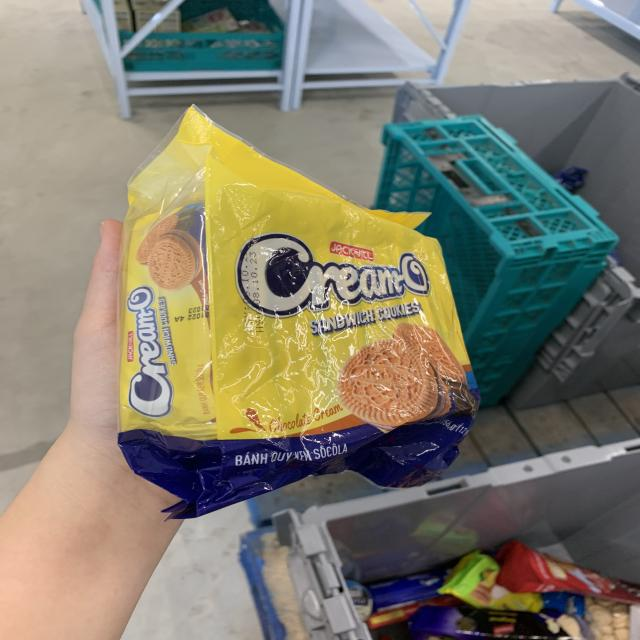object_name: (133, 189, 457, 473)
